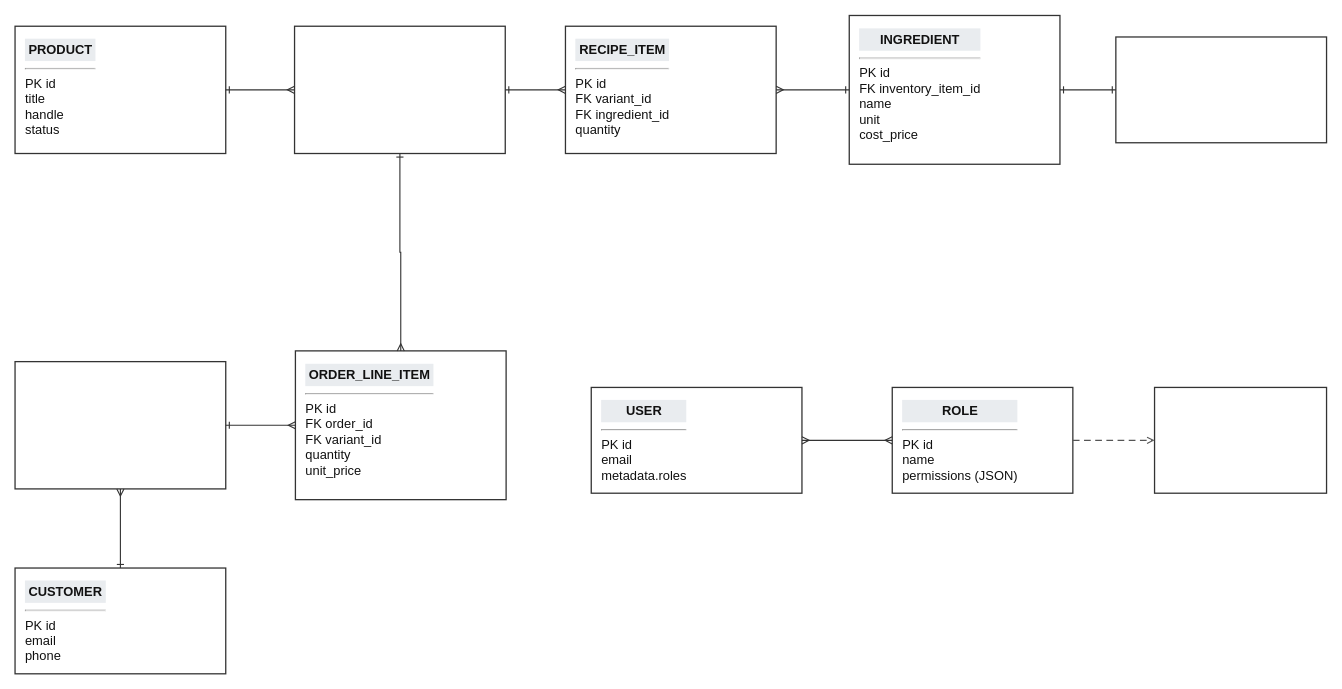
The diagram is 1342 pixels wide and 689 high, and some of its shapes have lost their labels. Here are the shapes that lost their labels. From the top down, the centre of each, then its label:
(x=400, y=89): PRODUCT_VARIANT PK id FK product_id sku price
(x=1221, y=89): INVENTORY_ITEM PK id sku stocked_quantity
(x=120, y=425): ORDER PK id FK customer_id status total
(x=1240, y=439): PERMISSION PK id name guard_name
